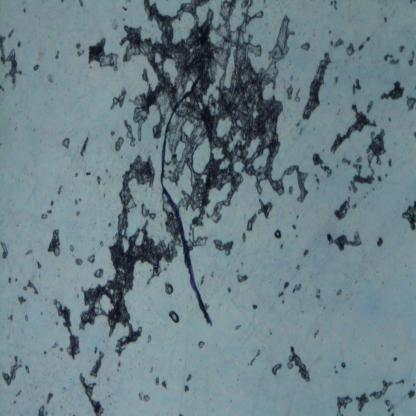Air bubble: (168, 311, 180, 325), (92, 267, 106, 279), (34, 404, 48, 416), (164, 282, 175, 296), (273, 230, 283, 240)
Background material: (111, 1, 311, 205), (78, 152, 161, 353), (329, 95, 379, 155), (344, 130, 390, 195), (300, 51, 332, 121), (52, 300, 82, 360), (0, 28, 25, 90), (77, 374, 106, 414), (285, 344, 314, 384), (87, 37, 117, 70), (0, 354, 24, 388), (336, 230, 368, 254), (397, 196, 416, 232), (312, 151, 334, 179), (369, 377, 394, 401), (122, 119, 140, 150), (334, 195, 352, 224), (380, 81, 404, 102), (89, 349, 106, 377), (108, 86, 126, 111), (248, 346, 264, 370), (334, 395, 354, 414), (48, 227, 61, 256), (215, 239, 236, 256), (23, 278, 40, 298), (245, 209, 257, 233), (356, 391, 369, 412), (258, 200, 274, 216), (80, 135, 90, 160), (269, 361, 284, 377), (405, 92, 416, 113), (363, 97, 375, 116), (350, 77, 362, 96), (329, 36, 346, 49), (383, 54, 401, 66), (113, 134, 125, 152), (236, 272, 251, 286), (0, 239, 10, 259), (291, 283, 304, 296), (345, 43, 357, 57), (407, 48, 416, 66), (74, 42, 84, 58), (285, 83, 295, 99), (310, 325, 320, 341), (292, 94, 302, 108), (137, 392, 151, 402), (406, 386, 416, 400), (327, 232, 336, 247), (74, 256, 84, 269), (233, 321, 243, 334), (56, 180, 64, 196), (358, 40, 367, 54), (302, 41, 313, 52), (53, 50, 64, 61), (376, 238, 387, 249), (87, 253, 97, 265), (72, 206, 82, 218), (46, 393, 54, 407), (250, 304, 261, 314), (61, 140, 72, 150), (185, 372, 195, 383), (182, 383, 192, 394), (38, 213, 50, 222), (240, 229, 247, 244), (146, 331, 154, 344), (46, 74, 56, 84), (31, 64, 41, 74), (16, 294, 26, 304), (25, 362, 32, 376), (393, 378, 405, 386), (327, 2, 339, 10), (302, 248, 310, 260), (161, 379, 170, 389), (386, 403, 394, 414), (336, 287, 344, 298), (398, 44, 406, 55), (314, 286, 320, 300), (154, 374, 160, 388), (198, 341, 206, 351), (278, 240, 286, 250), (34, 262, 44, 270), (97, 173, 102, 189), (77, 0, 85, 10), (383, 16, 389, 29), (7, 313, 14, 324), (7, 277, 14, 287), (284, 280, 290, 291), (384, 398, 392, 406), (26, 248, 34, 256), (278, 291, 285, 300), (291, 224, 298, 233), (392, 354, 398, 364), (149, 366, 156, 374), (340, 361, 347, 369), (68, 245, 74, 254), (48, 208, 53, 216), (295, 264, 300, 272), (227, 286, 232, 294), (49, 200, 54, 206)
Cotton: (159, 66, 214, 326)
